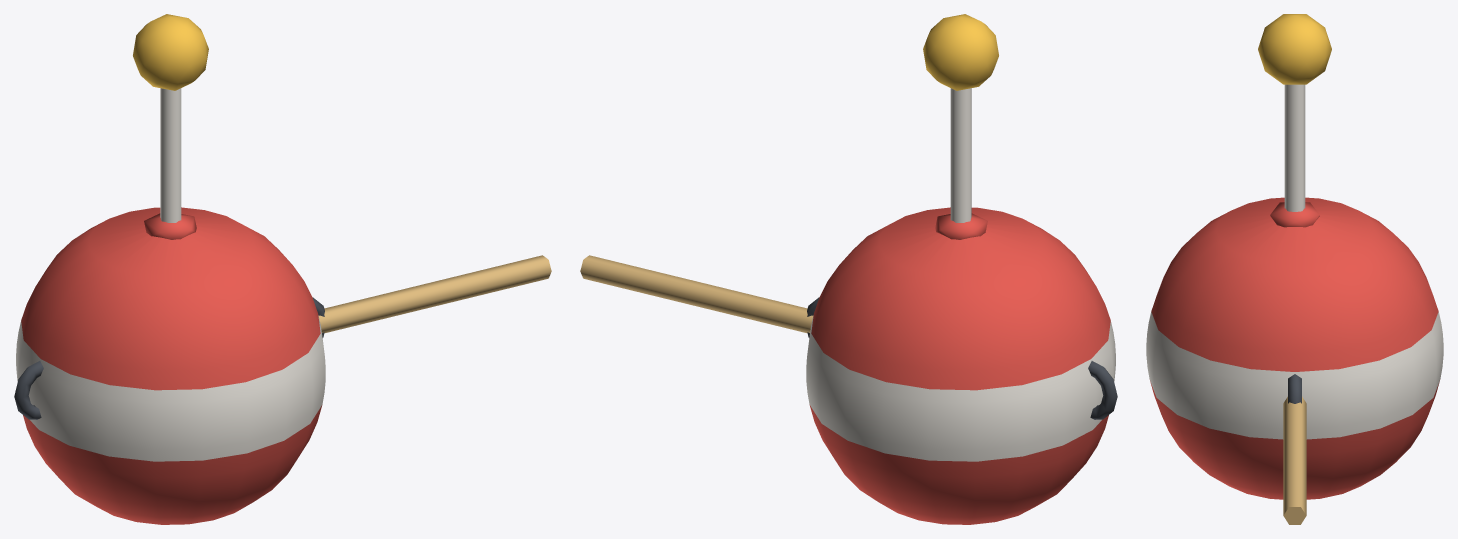
The model's file is boias.glb.
3 renders of one model, left to right at view 1: azimuth 30°, elevation 25°; view 2: azimuth 150°, elevation 25°; view 3: azimuth 270°, elevation 25°, orthographic. The views are drawn at different scales.
Parts seen in each view (by area): view 1: boia, corda; view 2: boia, corda; view 3: boia, corda.
Part boxes in pixels (box(x1,y1,x2,y2)): boia: box(14, 14, 325, 524); corda: box(318, 255, 551, 333); boia: box(806, 14, 1117, 524); corda: box(580, 255, 813, 333); boia: box(1146, 14, 1443, 499); corda: box(1283, 396, 1306, 524).
Bounding box in the file's own units: 1.42 × 1.27 × 0.7198.
